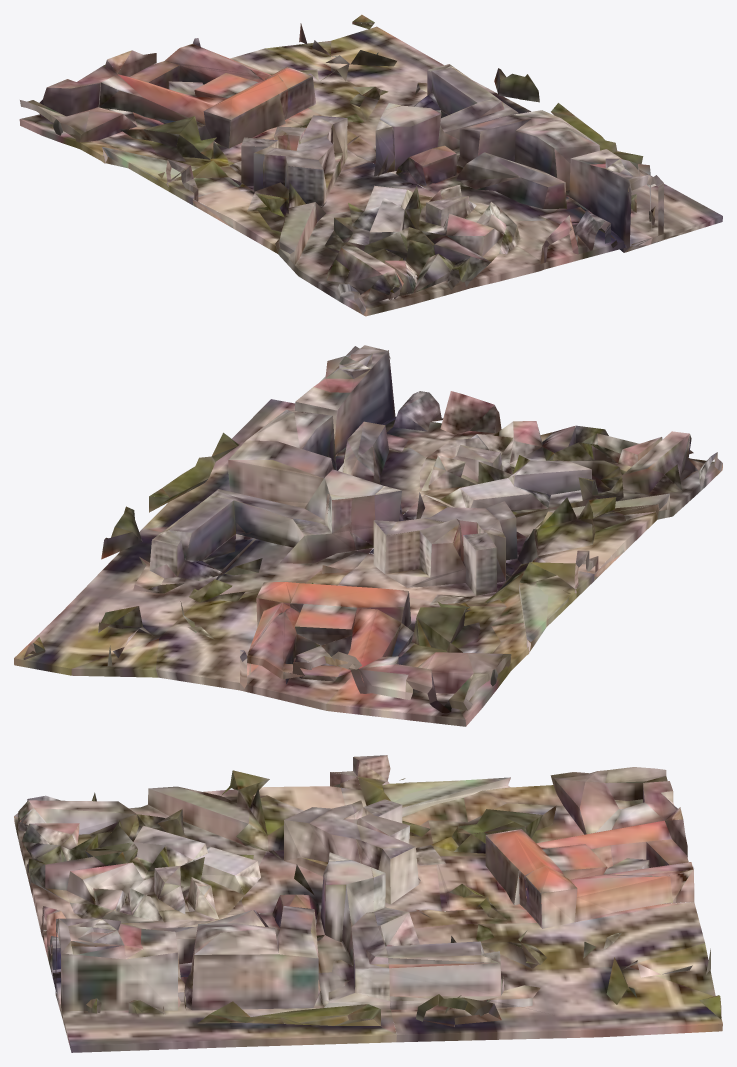
3 views of the same model, one above another, from view 1: azimuth 30°, elevation 25°; view 2: azimuth 150°, elevation 25°; view 3: azimuth 270°, elevation 25° (orthographic). The views are drawn at different scales.
Visible parts, largest first — view 1: Mesh_0; view 2: Mesh_0; view 3: Mesh_0.
Part boxes in pixels (x1,y1,x2,y2): Mesh_0: (19, 14, 722, 316); Mesh_0: (14, 345, 722, 726); Mesh_0: (14, 755, 722, 1052).
Size of the model in its own units: 270 by 45.85 by 330.
Materials: 2 (2 with a texture image).
